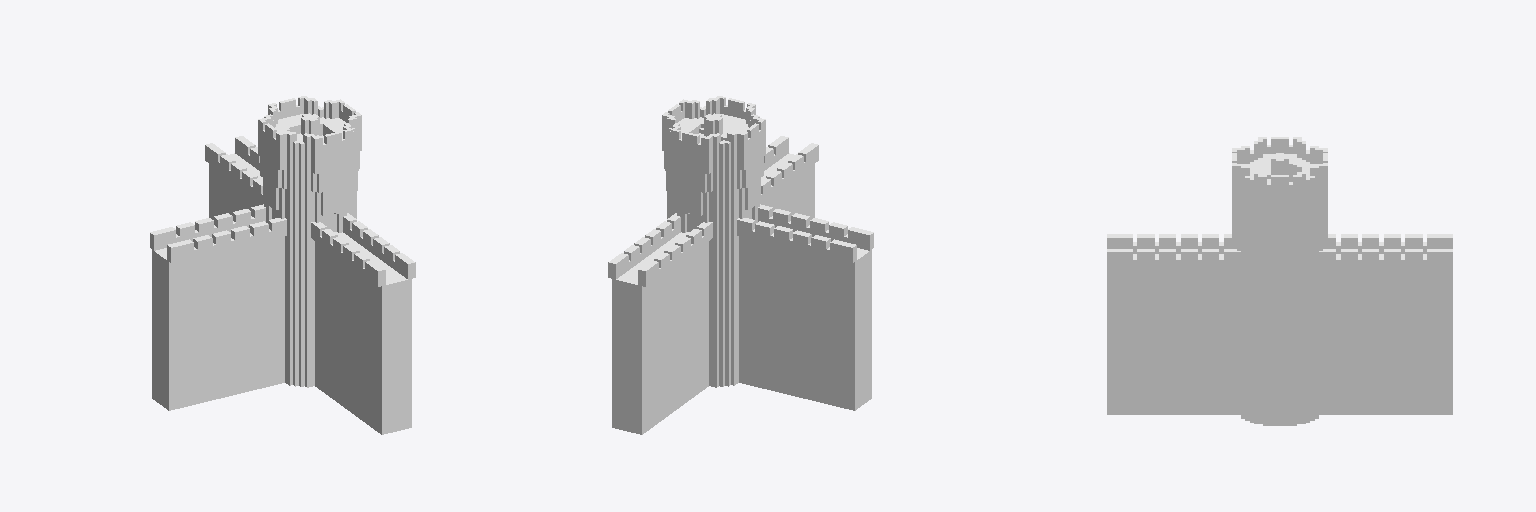
The model's file is wall_t.obj.
3 views of the same model, side by side, from view 1: azimuth 30°, elevation 25°; view 2: azimuth 150°, elevation 25°; view 3: azimuth 270°, elevation 25° (orthographic).
Visible parts, largest first — view 1: object 1; view 2: object 1; view 3: object 1.
Boxes of the visible parts, x1=… form: object 1: x1=150, y1=96, x2=415, y2=434; object 1: x1=608, y1=96, x2=873, y2=434; object 1: x1=1107, y1=137, x2=1452, y2=425.
Size of the model in its own units: 5.1 by 6.4 by 8.